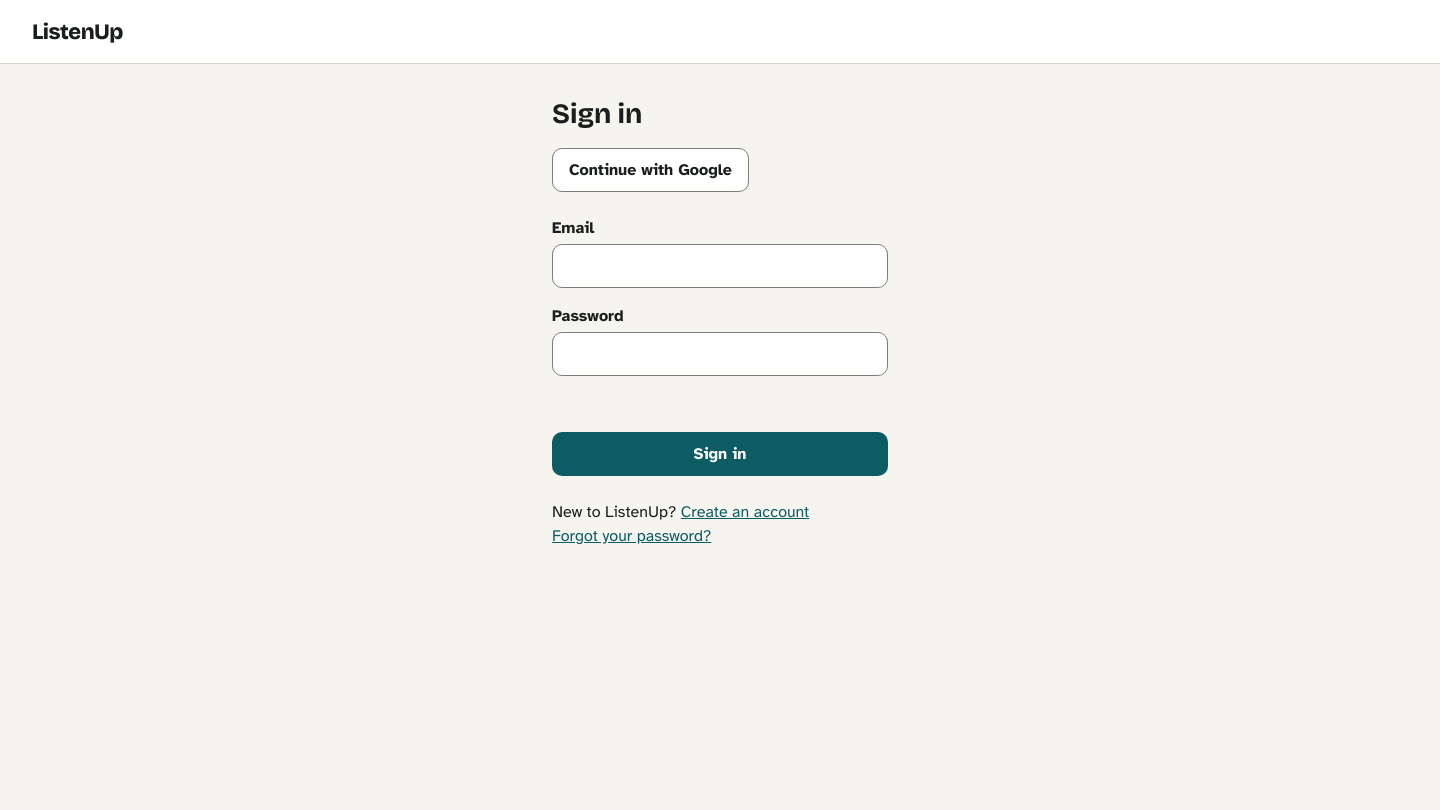
it: signing in to a deleted account (#120) › asks before restoring, with the date the data goes
In the field labelled "Email": (720, 266) [552,244,888,288], type "learner@example.com"
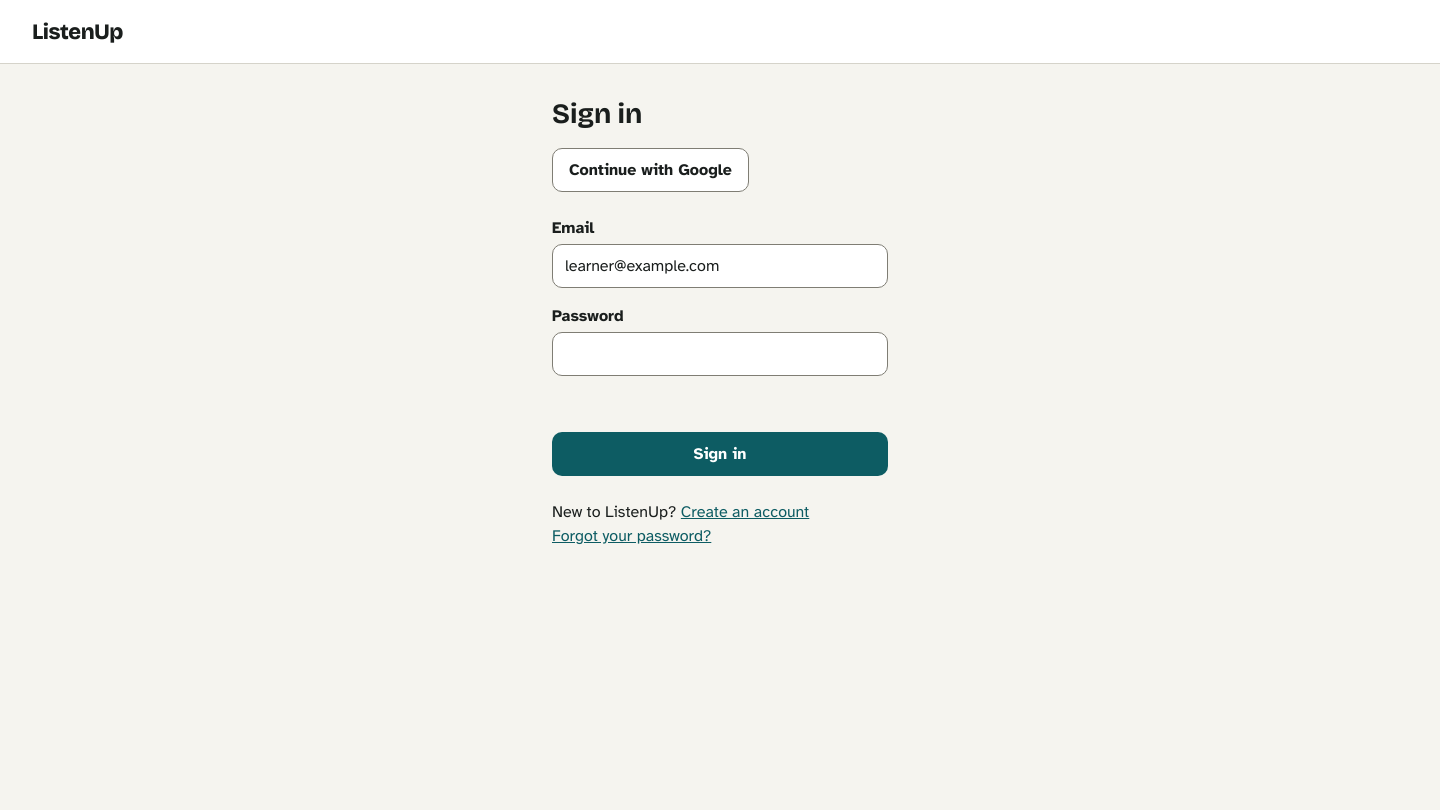
In the password field labelled "Password": (720, 354) [552,332,888,376], type "correct horse"
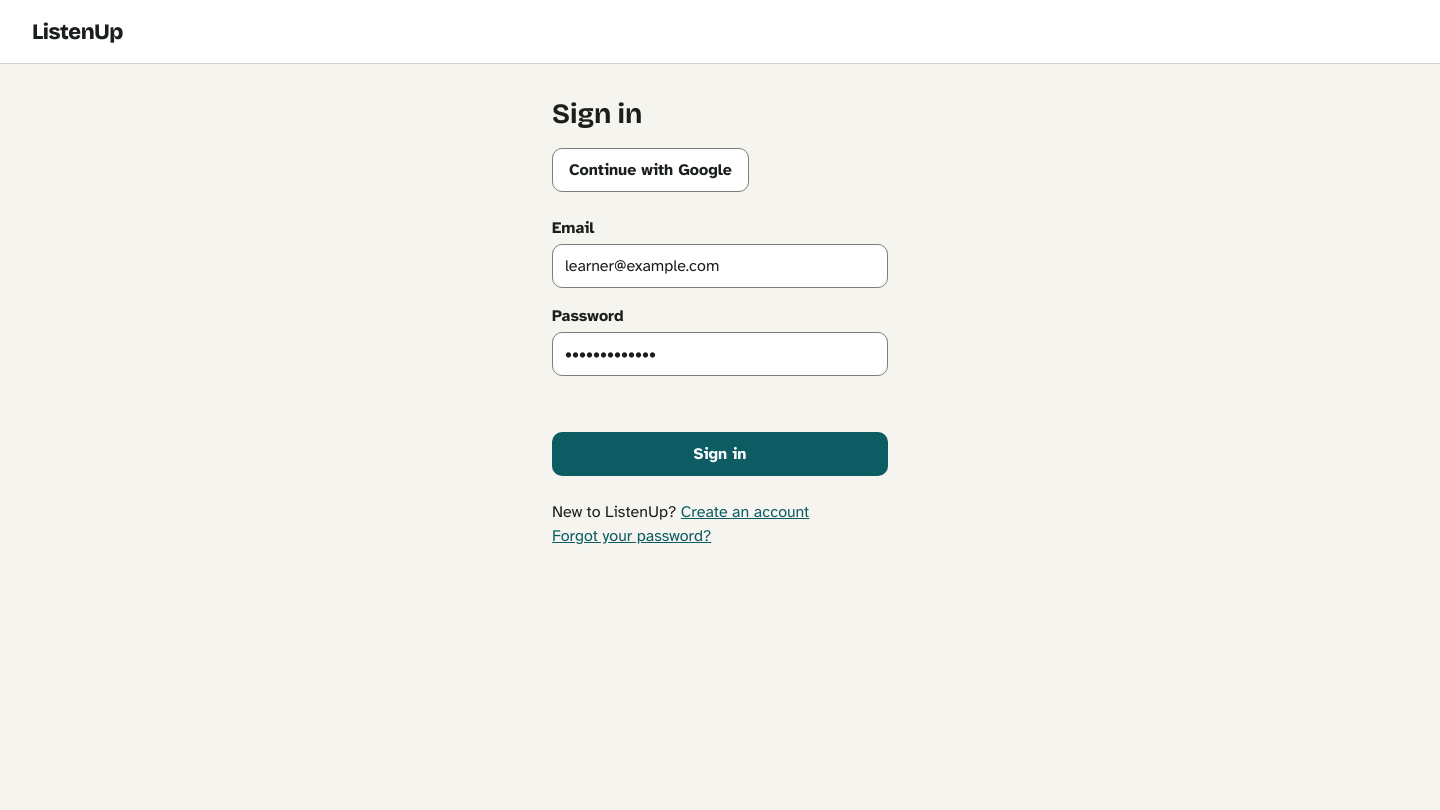
Click the button "Sign in": (720, 454) [552,432,888,476]
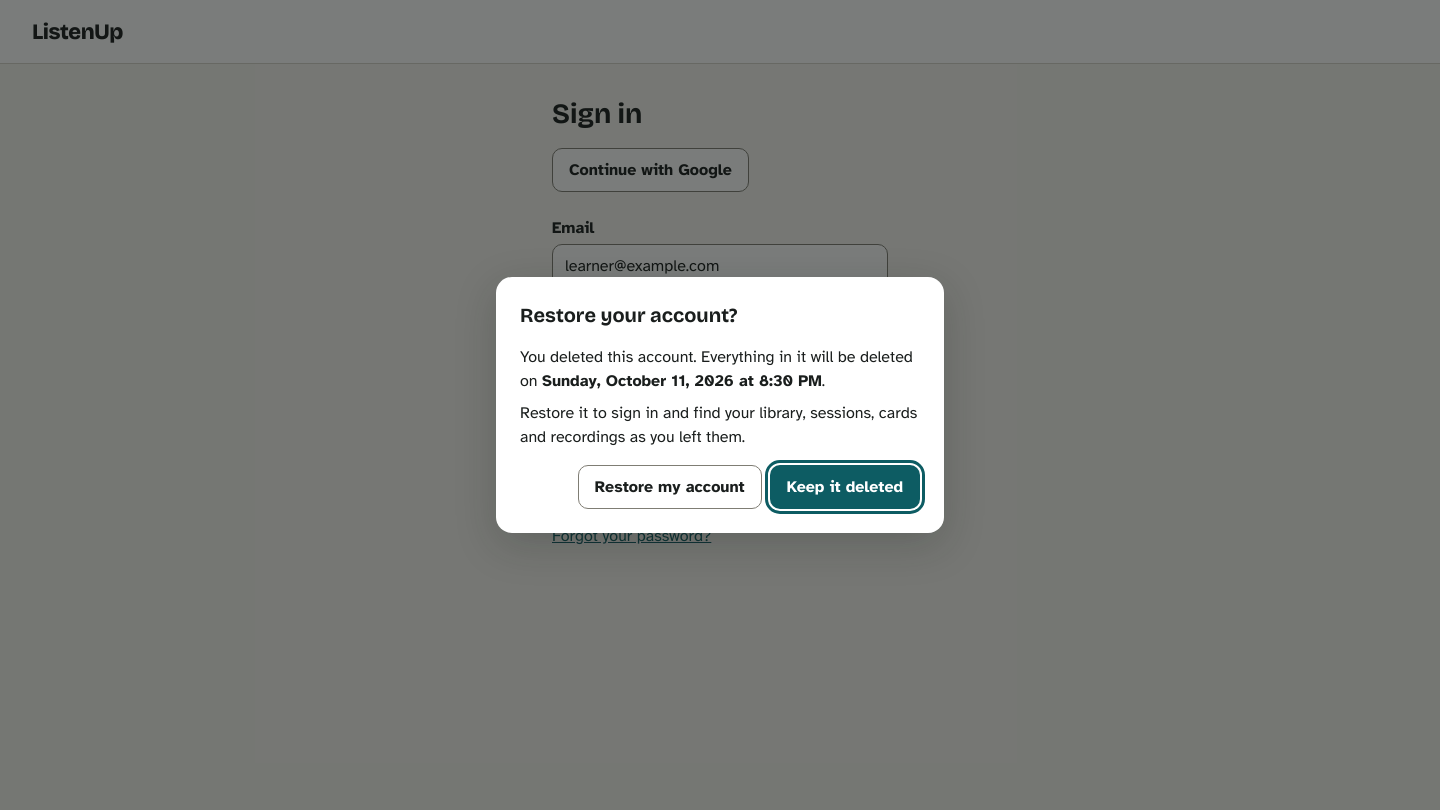
Expected: the message is empty, [552,392,888,416]
Click the button "Restore my account": (670, 487) [578,465,762,509]
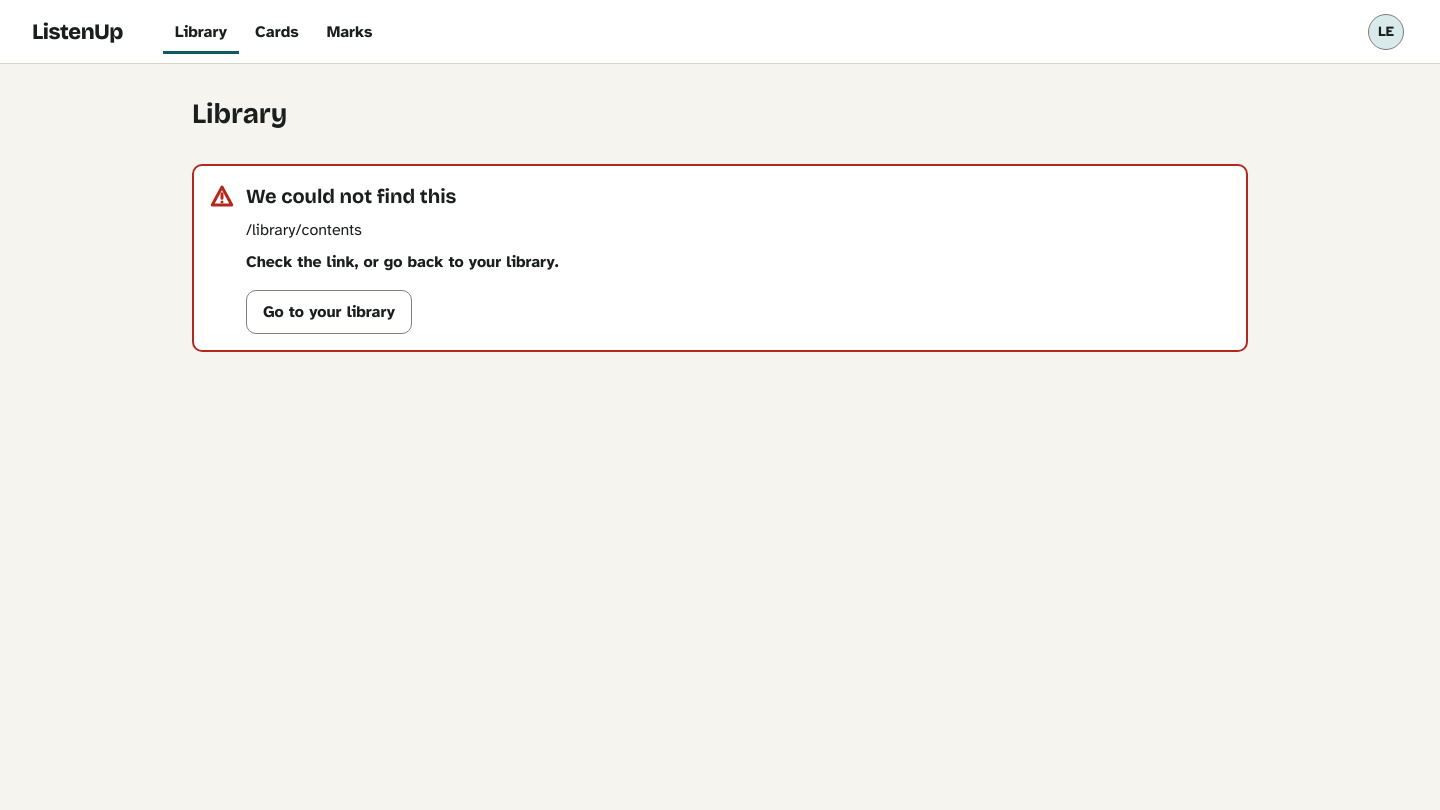
Now the heading "Library" is shown, box [192,97,287,131]
